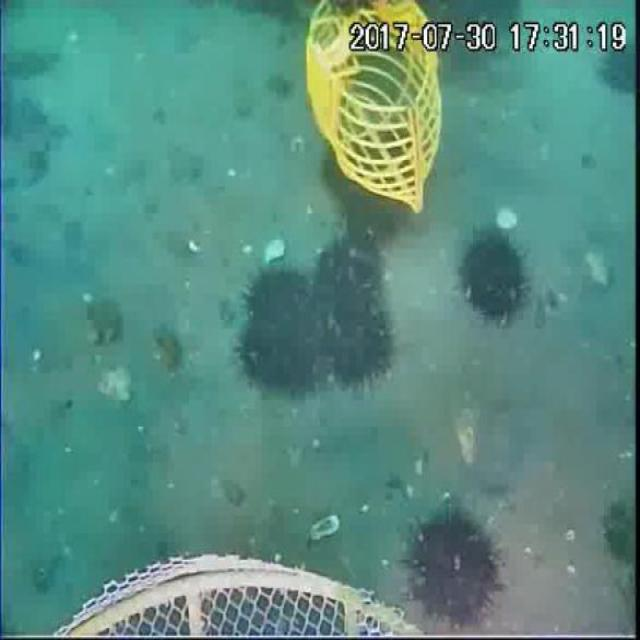echinus: (403, 502, 503, 630), (455, 227, 531, 325), (233, 307, 320, 392), (314, 233, 390, 316), (326, 303, 396, 389), (243, 263, 316, 345), (341, 188, 402, 245), (318, 137, 364, 199), (602, 500, 640, 567), (596, 40, 640, 95)
